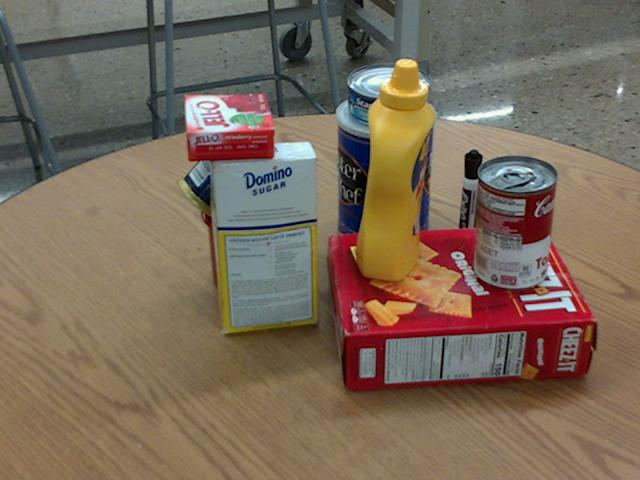cracker_box: (329, 223, 593, 391)
gelatin_box: (185, 92, 273, 161)
large_marker: (456, 150, 480, 258)
master_chef_can: (337, 91, 438, 251)
mug: (197, 184, 293, 295)
mustard_bottle: (355, 57, 435, 281)
potted_meat_can: (177, 118, 312, 247)
sugar_box: (207, 140, 318, 332)
tomato_soup_can: (474, 153, 558, 289)
tuna_fish_can: (347, 63, 431, 126)
